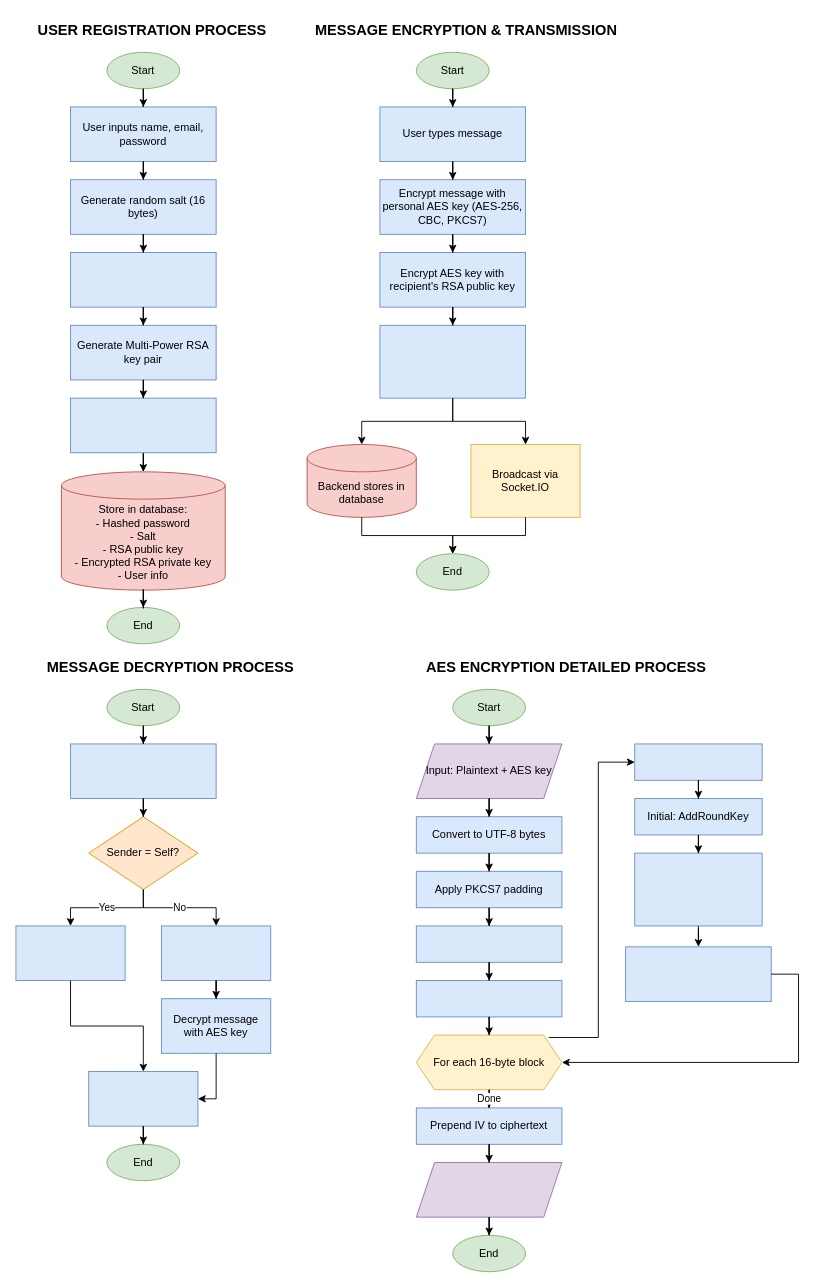
This 822x1288 diagram has some shape labels left out. Here are the shapes that lost their labels. From the top down, the centre of each, then its label:
the point at 143,279: Derive AES key using PBKDF2 (password + salt)
the point at 452,361: Send to backend: - Encrypted message - Encrypted AES key - Chat ID
the point at 143,425: Encrypt RSA private key with AES key
the point at 143,771: Receive encrypted message & AES key
the point at 698,761: XOR with previous/IV (CBC)
the point at 698,889: Rounds 1-13: SubBytes → ShiftRows → MixColumns → AddRoundKey
the point at 70,953: Decrypt with personal AES key
the point at 216,953: Decrypt AES key with RSA private key
the point at 488,943: Generate random IV (16 bytes)
the point at 698,973: Final round: SubBytes → ShiftRows → AddRoundKey
the point at 488,998: Key expansion (schedule)
the point at 143,1098: Display plaintext in chat UI
the point at 488,1189: Return encrypted data + log
